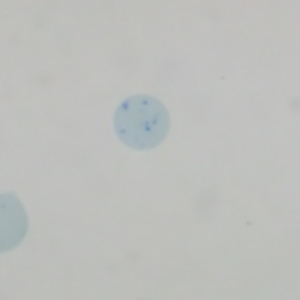aggregate reticulocyte: (111, 92, 172, 153)
